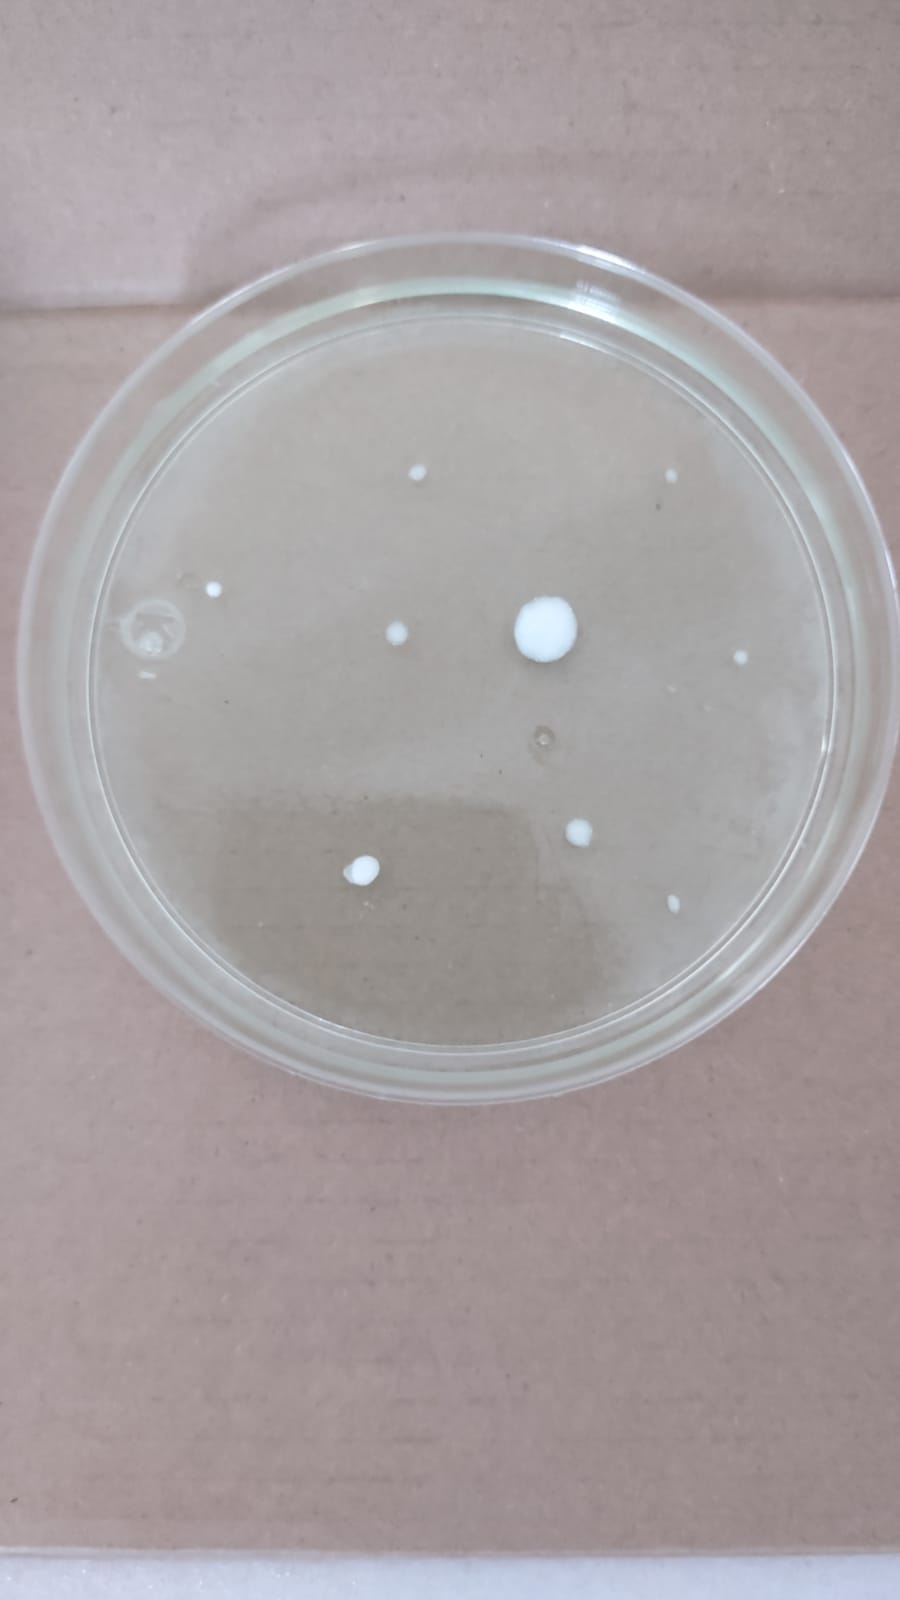Colonia: (512, 595, 582, 663), (342, 849, 382, 892), (560, 811, 598, 849), (384, 615, 411, 651), (204, 575, 226, 599), (659, 895, 684, 913), (732, 646, 749, 669), (663, 467, 684, 485), (410, 465, 427, 479)
